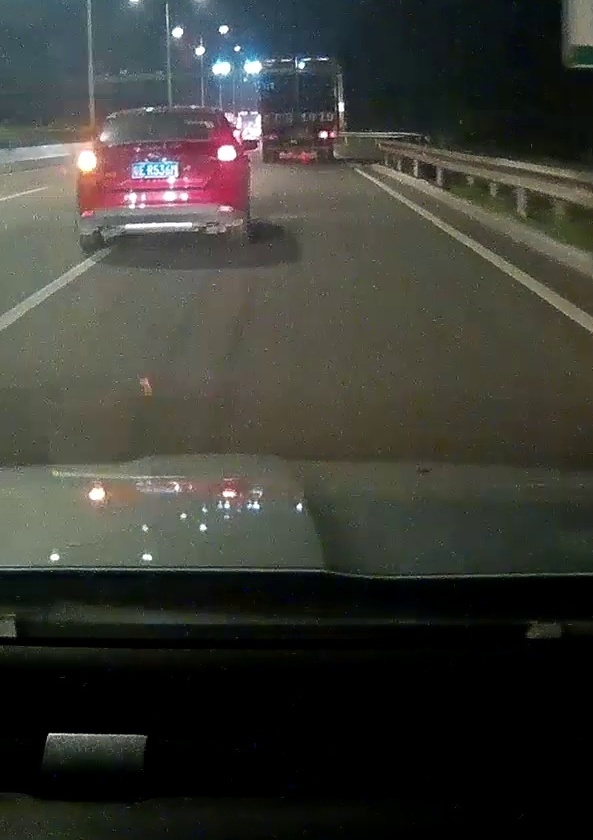L_light: (75, 149, 113, 175), (262, 132, 279, 141)
R_light: (207, 144, 238, 162), (316, 129, 338, 139)
T_light: (155, 109, 174, 113), (291, 62, 307, 66)
night-left: (74, 105, 249, 253)
night-right: (259, 57, 344, 164)
